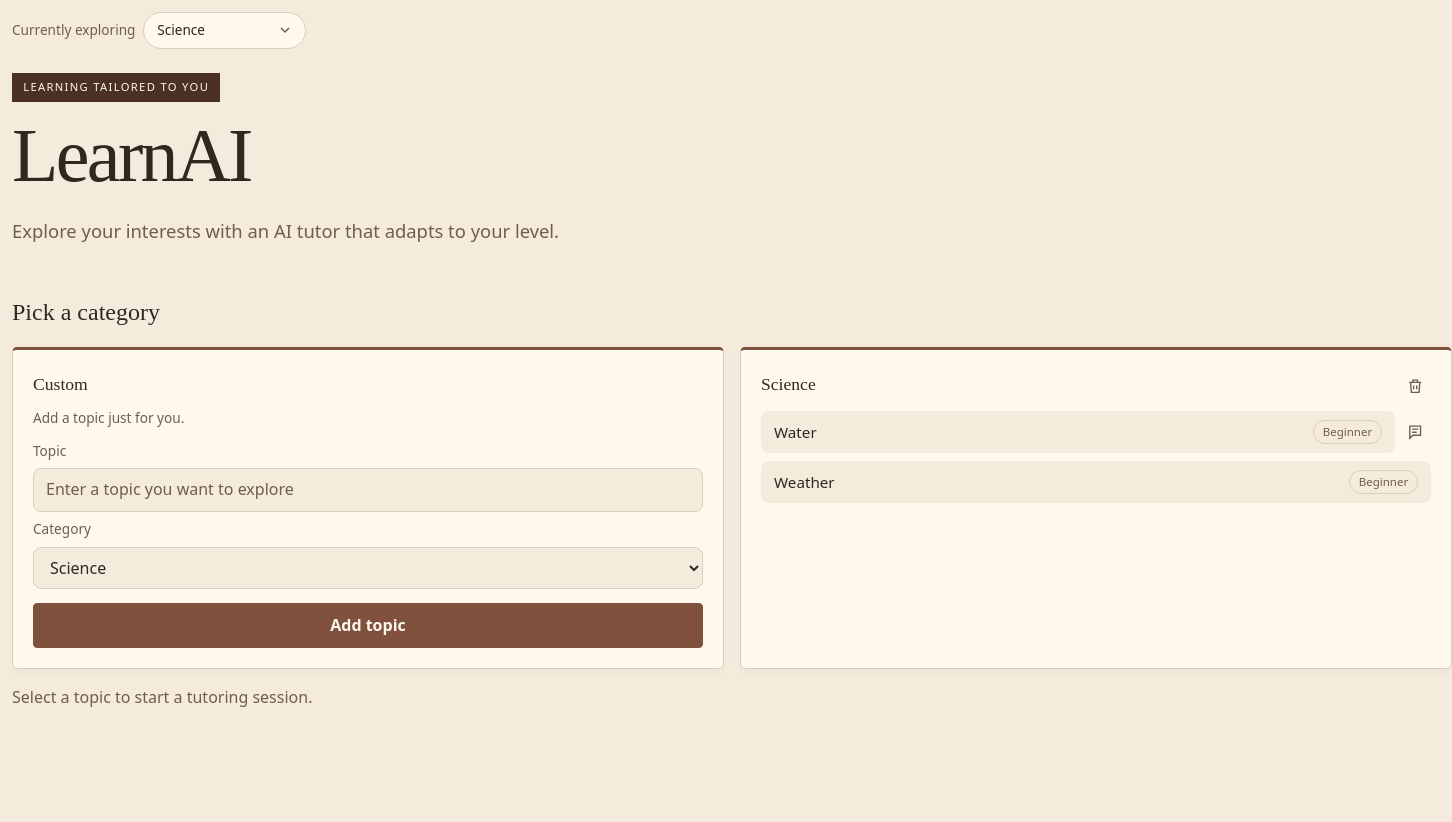
shows saved notes even if the tutor is unavailable
Click the button "Water Beginner": (795, 432) [761,411,1395,453]
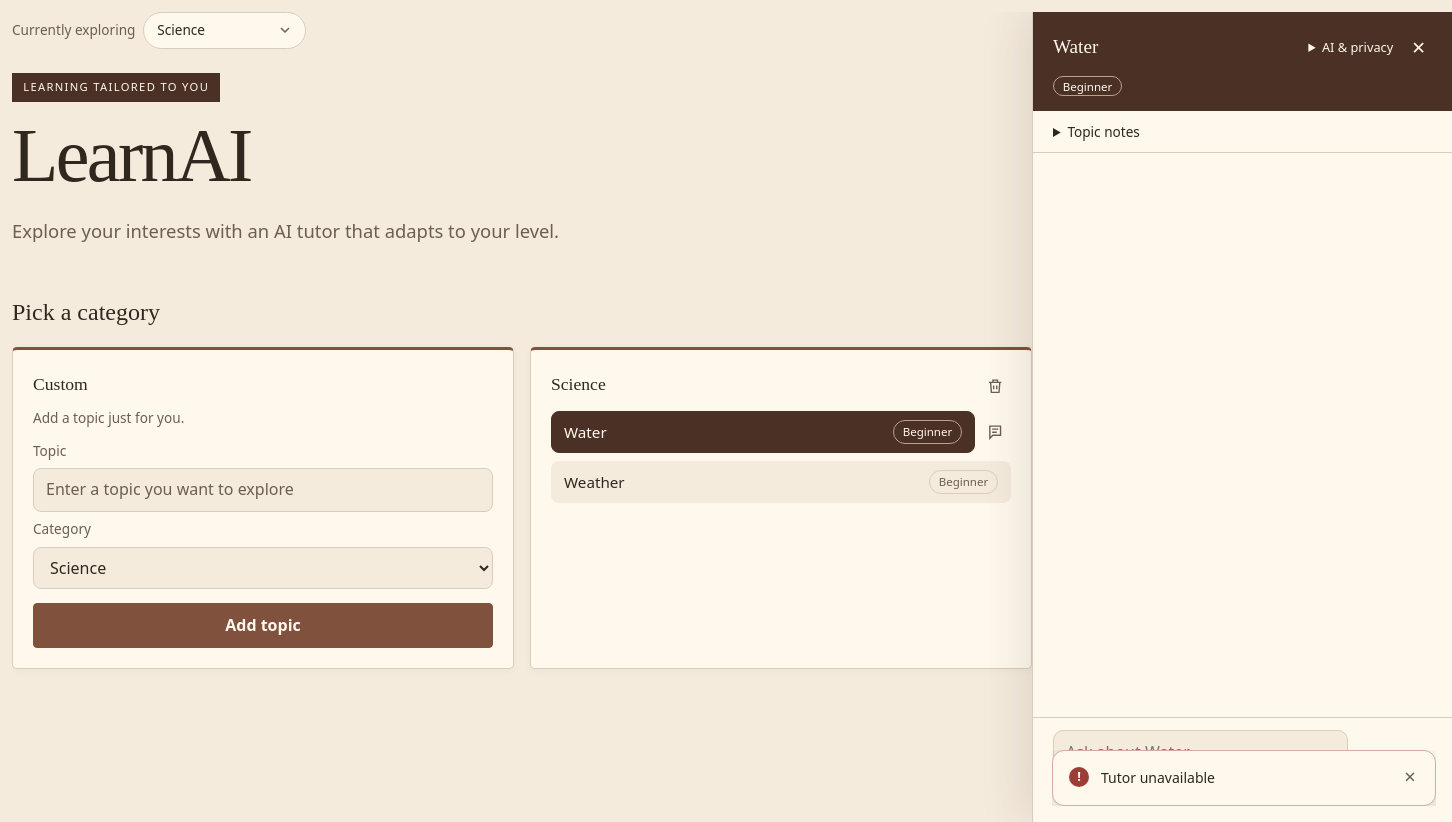
Result: the text "Tutor unavailable" is shown at [1101,768,1215,787]
Click the heading "Topic notes": (1104, 131) [1067,122,1140,140]
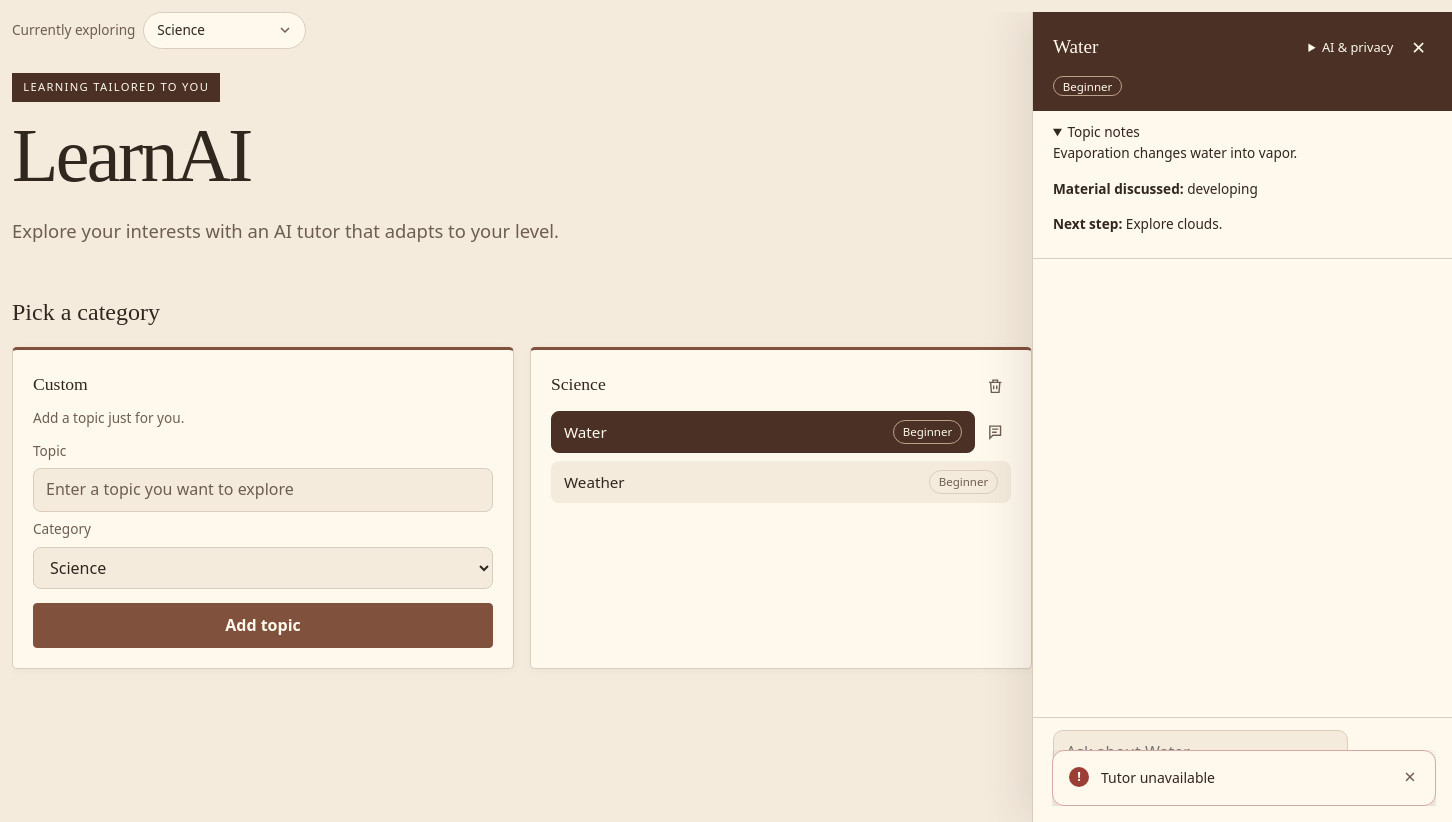
Result: the text "Evaporation changes water into vapor." is shown at [1053,143,1297,162]
